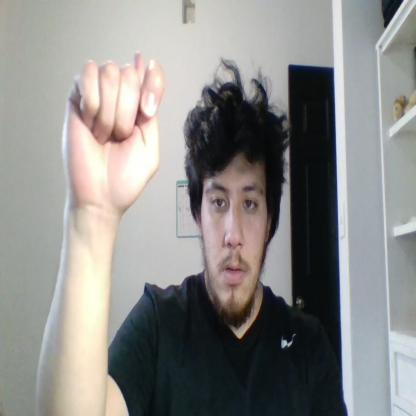T: (63, 49, 164, 212)
